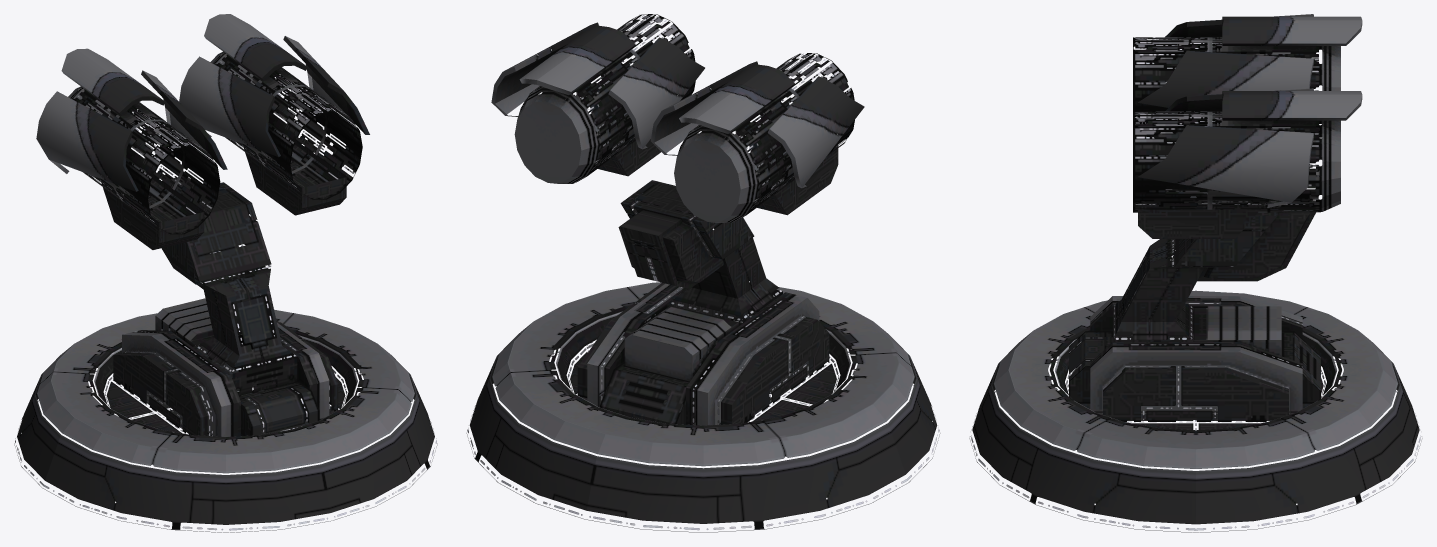
File: Aeon_Missile_Turret.obj
3 renders of one model, left to right at view 1: azimuth 30°, elevation 25°; view 2: azimuth 150°, elevation 25°; view 3: azimuth 270°, elevation 25°, orthographic. The views are drawn at different scales.
Visible parts, largest first — view 1: Original_Aeon_base_and_support, Left_original_armored_launcher_shell, Right_original_armored_launcher_shell; view 2: Original_Aeon_base_and_support, Left_original_armored_launcher_shell, Right_original_armored_launcher_shell; view 3: Original_Aeon_base_and_support, Right_original_armored_launcher_shell, Left_original_armored_launcher_shell.
Part boxes in pixels (x1=…): Original_Aeon_base_and_support: x1=14, y1=177, x2=437, y2=532; Left_original_armored_launcher_shell: x1=36, y1=48, x2=227, y2=249; Right_original_armored_launcher_shell: x1=179, y1=14, x2=369, y2=215; Original_Aeon_base_and_support: x1=466, y1=180, x2=940, y2=532; Left_original_armored_launcher_shell: x1=650, y1=53, x2=864, y2=222; Right_original_armored_launcher_shell: x1=491, y1=14, x2=704, y2=183; Original_Aeon_base_and_support: x1=969, y1=197, x2=1422, y2=532; Right_original_armored_launcher_shell: x1=1133, y1=88, x2=1362, y2=238; Left_original_armored_launcher_shell: x1=1133, y1=14, x2=1362, y2=156.
Bounding box in the file's own units: 15.88 × 14.67 × 15.88.
1 material, 1 textured.
